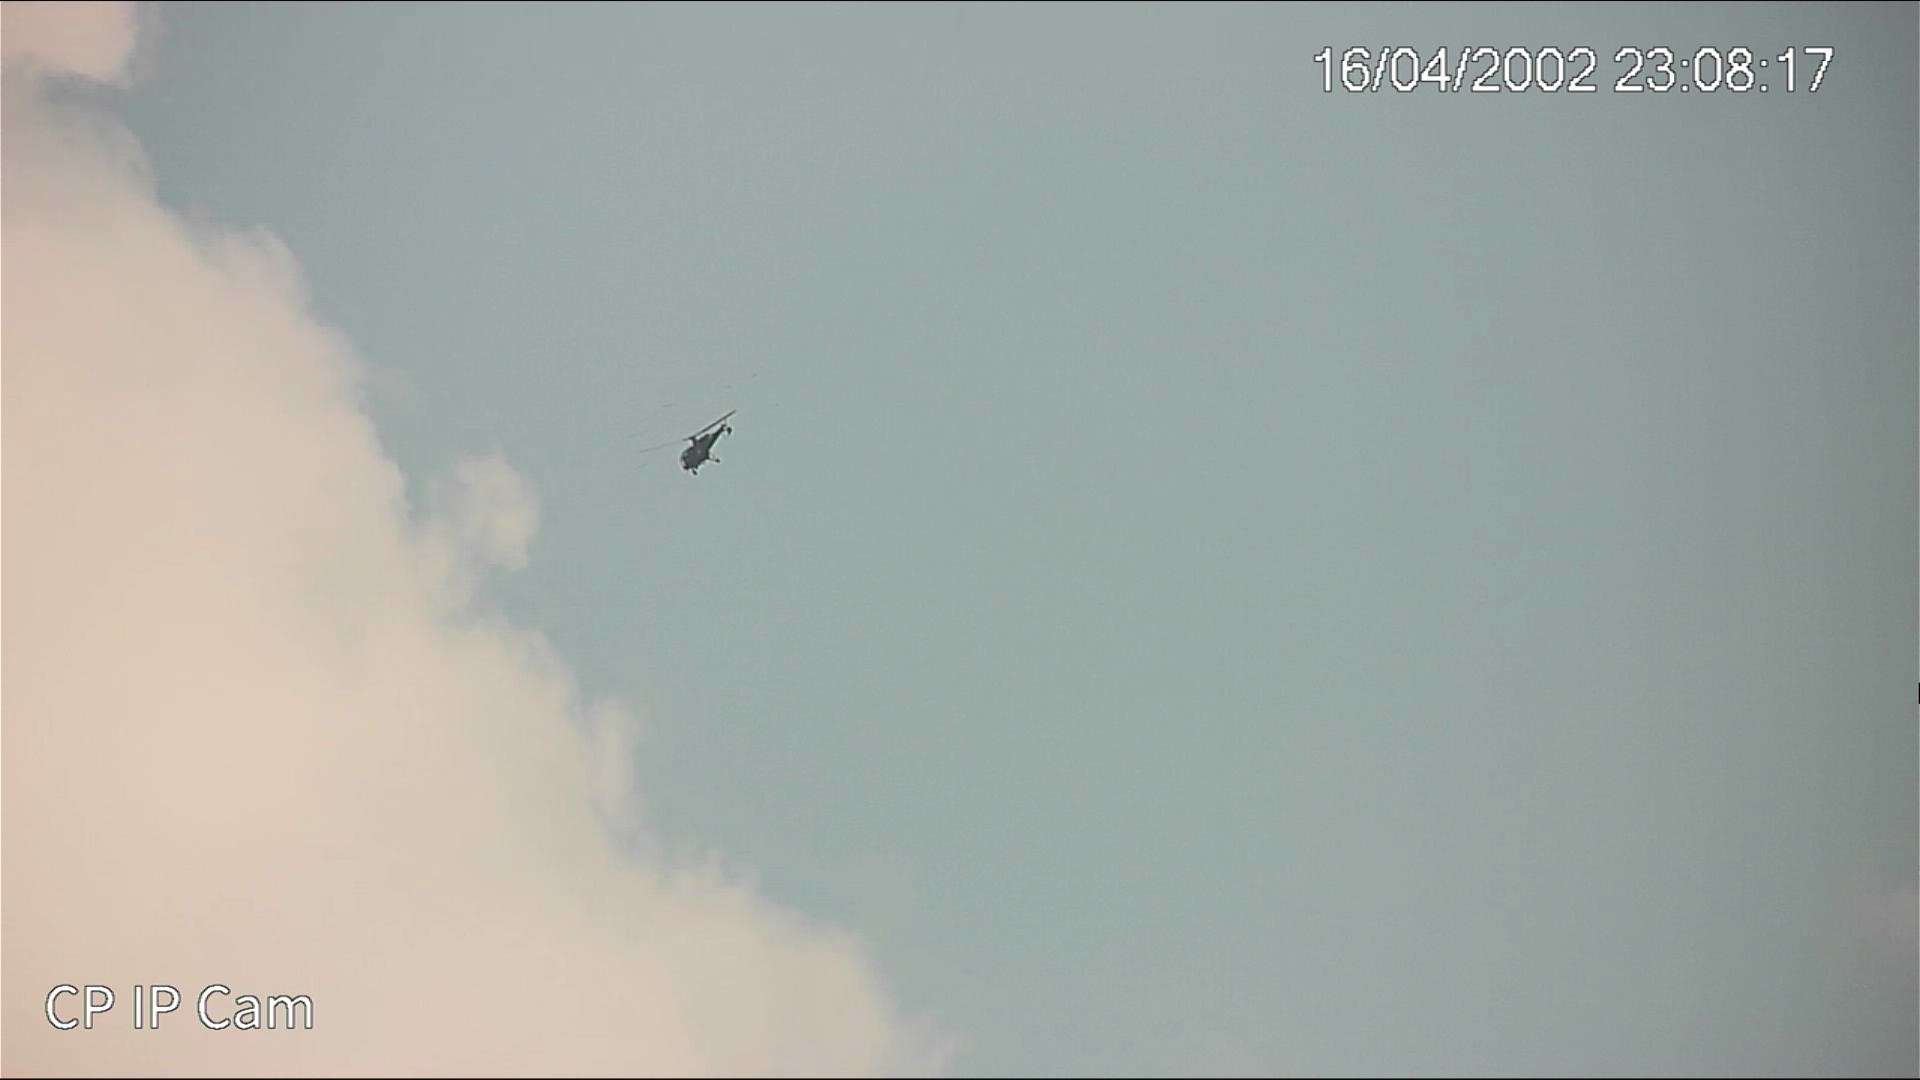SU_30: (680, 410, 741, 477)
